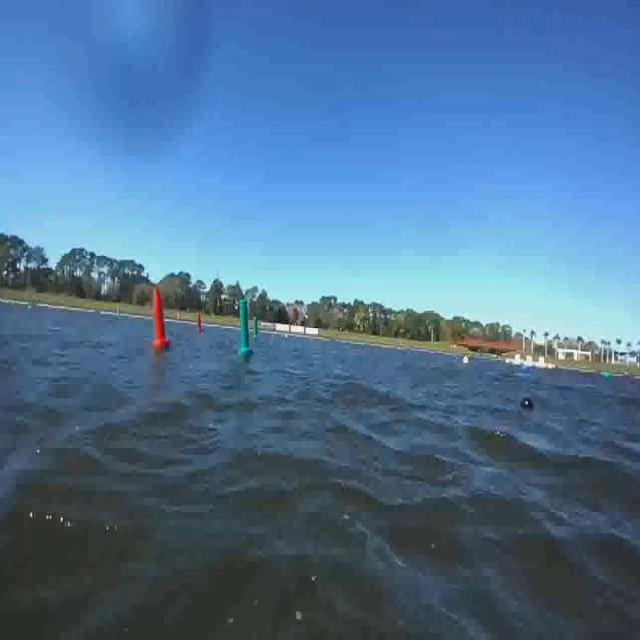black-buoy: (521, 396, 534, 408)
green-column-buoy: (238, 291, 250, 361), (251, 313, 259, 343)
red-column-buoy: (152, 289, 170, 350), (197, 314, 204, 336)
yellow-buoy: (462, 354, 470, 366)
